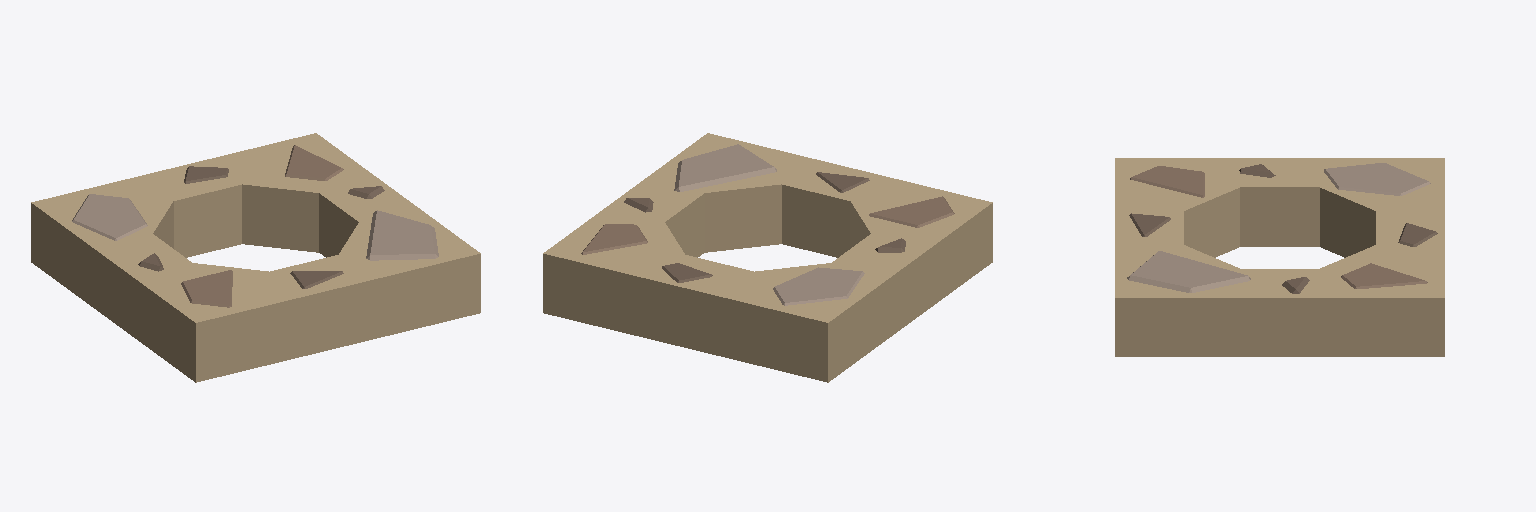
Rendered from Prop_Well_Cobblestone.obj.
The picture shows the model from 3 angles: view 1: azimuth 30°, elevation 25°; view 2: azimuth 150°, elevation 25°; view 3: azimuth 270°, elevation 25°; orthographic projection.
Visible parts, largest first — view 1: object1; view 2: object1; view 3: object1.
Part boxes in pixels (x1,y1,x2,y2): object1: (31, 133, 480, 382); object1: (543, 133, 992, 382); object1: (1115, 158, 1444, 356).
Bounding box in the file's own units: 1 × 0.2125 × 1.